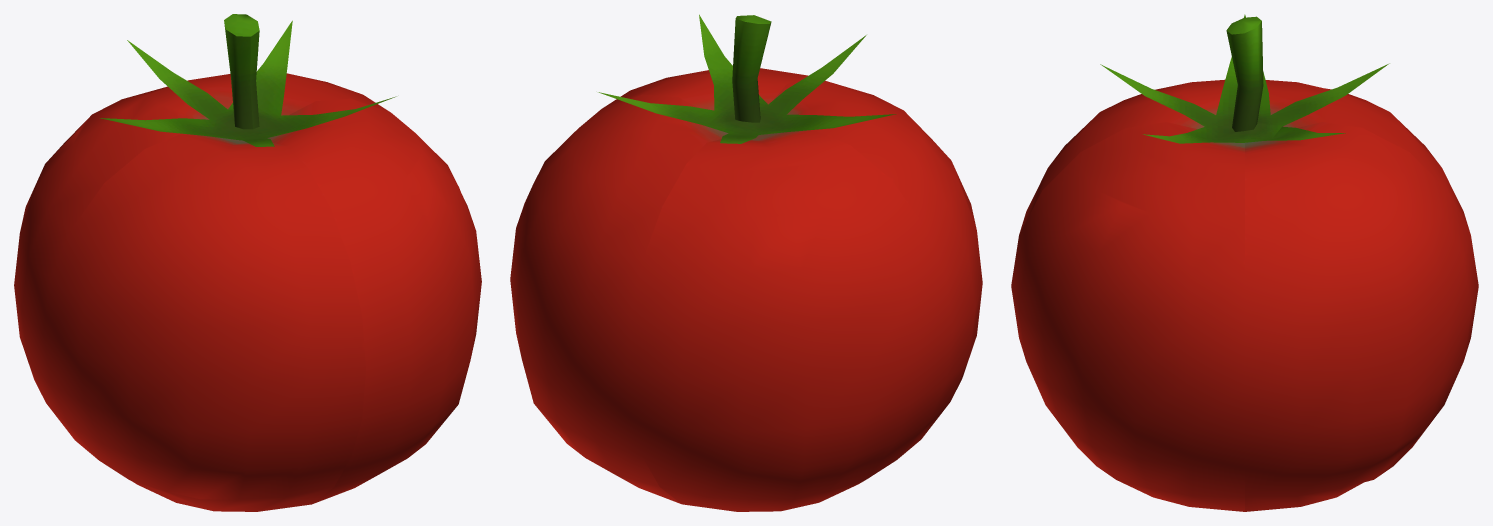
Rendered from Tomato.glb.
3 renders of one model, left to right at view 1: azimuth 30°, elevation 25°; view 2: azimuth 150°, elevation 25°; view 3: azimuth 270°, elevation 25°, orthographic. The views are drawn at different scales.
Parts seen in each view (by area): view 1: Tomato_Whole; view 2: Tomato_Whole; view 3: Tomato_Whole.
Boxes of the visible parts, box(x1,y1,x2,y2) form: Tomato_Whole: box(14, 14, 481, 511); Tomato_Whole: box(510, 14, 982, 511); Tomato_Whole: box(1011, 14, 1478, 511).
Bounding box in the file's own units: 0.7651 × 0.8289 × 0.7651.
Materials: 1 (1 with a texture image).
